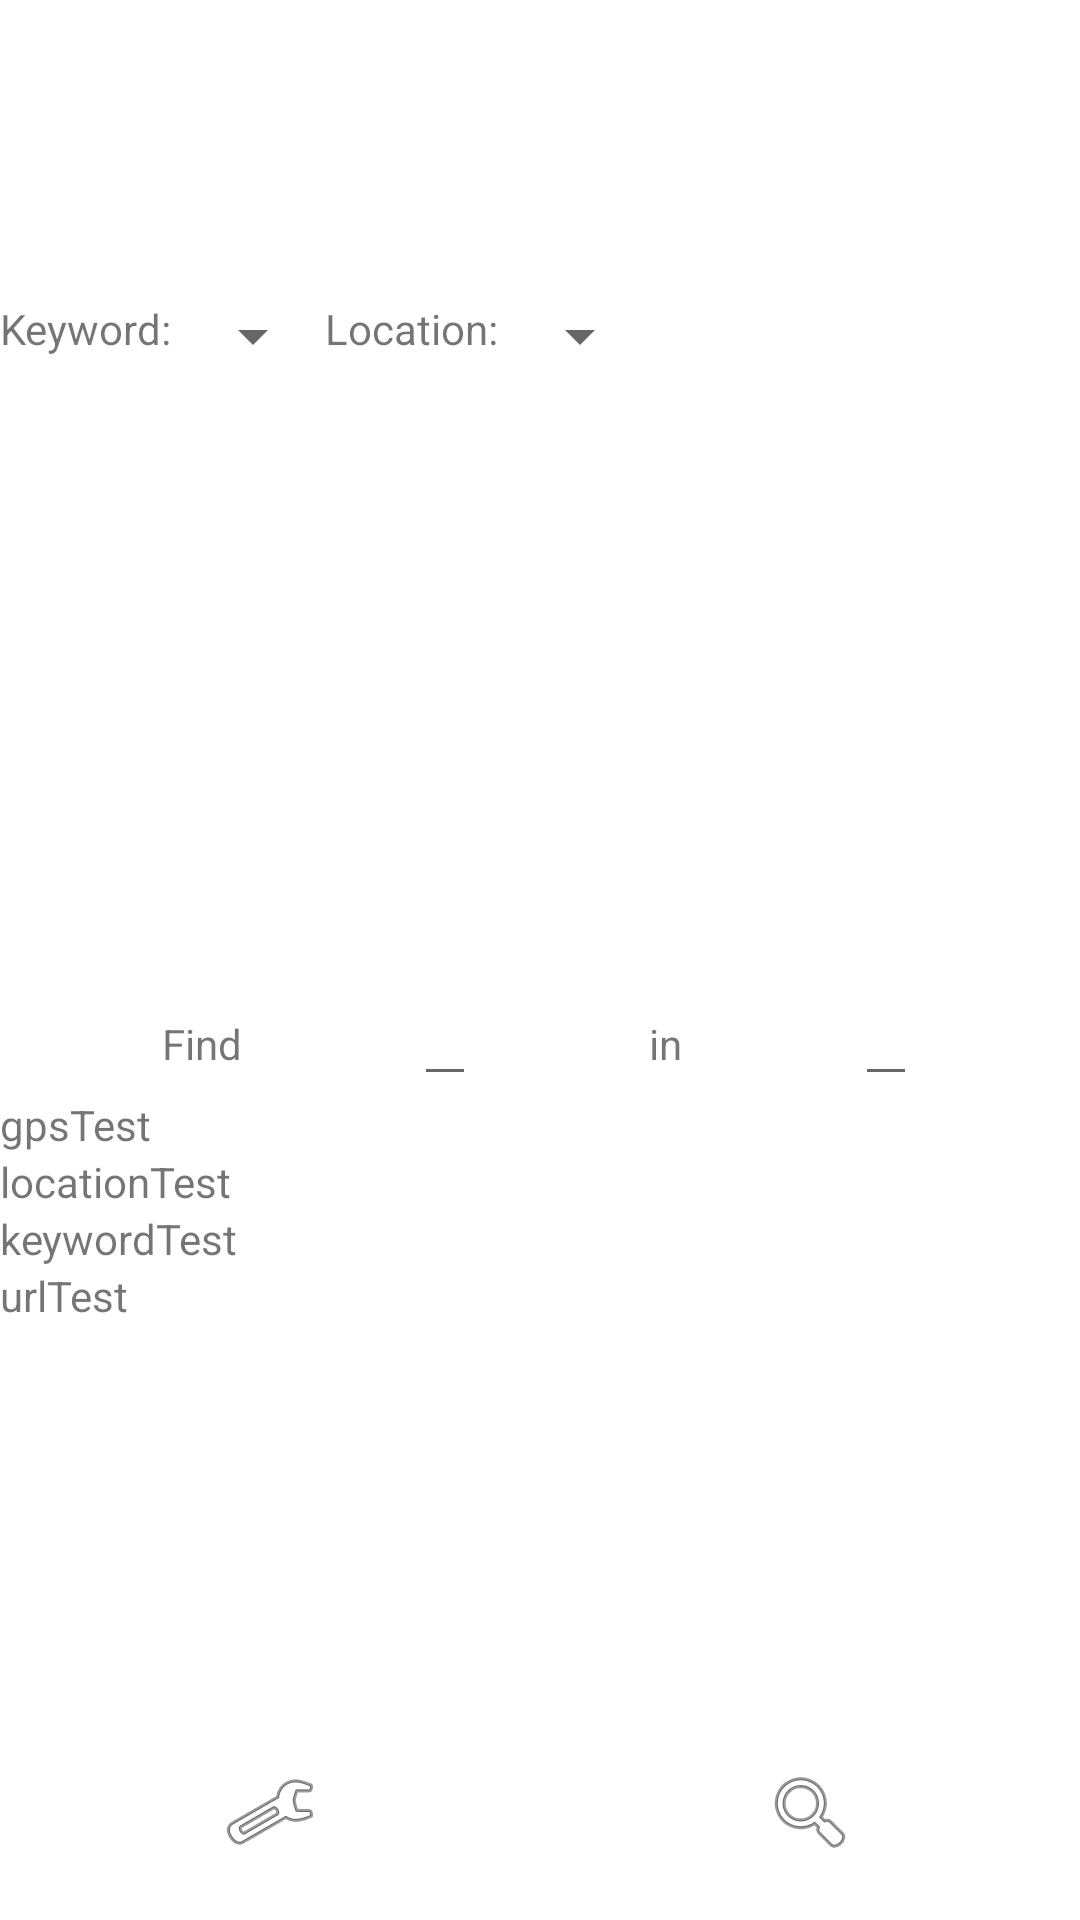

Where to tap for icons on this 1080*1920 app screen, as point (x, y):
preferences: point (270, 1812)
search: point (810, 1812)
